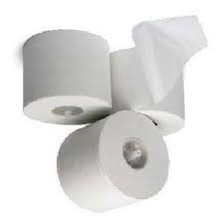tissue: (47, 104, 175, 218), (101, 9, 211, 141), (17, 24, 117, 131)
